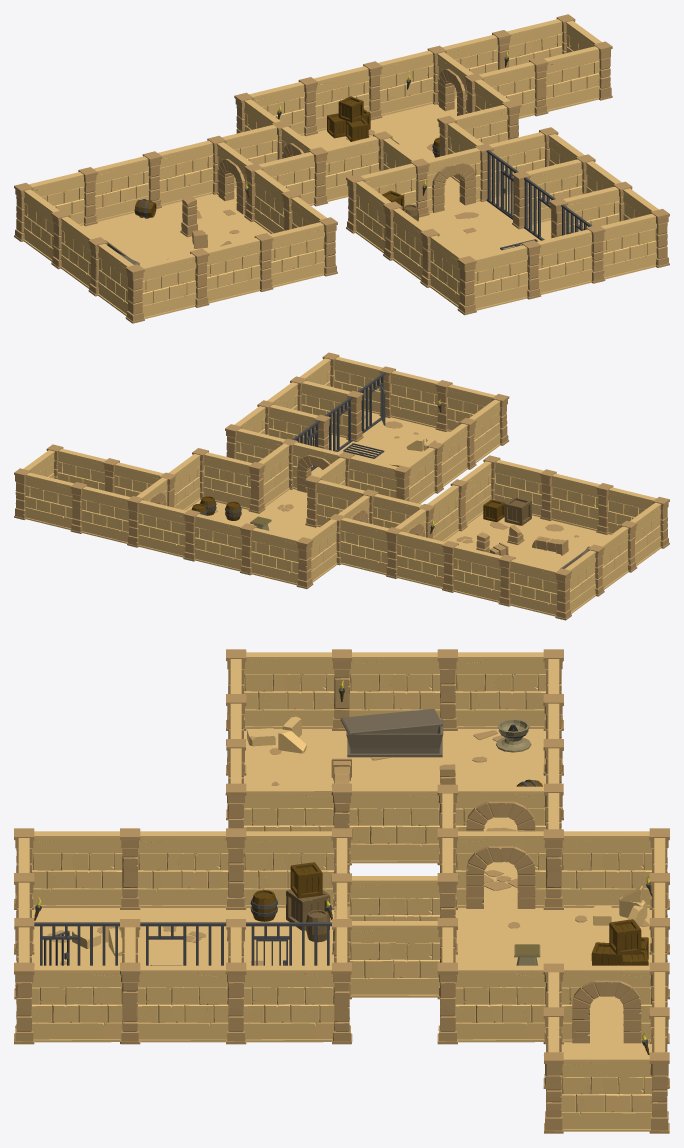
File: ModularDungeonSandBiome_ExampleScene.fbx
3 renders of one model, top to bottom at view 1: azimuth 30°, elevation 25°; view 2: azimuth 150°, elevation 25°; view 3: azimuth 270°, elevation 25°, orthographic. The views are drawn at different scales.
Parts seen in each view (by area): view 1: Pillar1Wall1.006, Pillar1Wall1.017, Pillar1Wall1.002, Pillar1Wall1.013, Pillar2Wall1.006, Pillar2Wall1.007, Pillar2Wall1.001, Pillar1Wall1.014, Pillar2Wall1.008, Pillar2Wall1.005, Pillar2Door.001, Pillar1Wall1.010 (+47 smaller); view 2: Pillar3Wall1.001, Pillar1Wall1.019, Pillar2Wall1.008, Pillar1Wall1.013, Pillar1Wall1.011, Pillar2Wall1.002, Pillar2Wall1.005, Pillar1Wall1.014, Pillar1Wall1.012, Pillar3Wall1.006, Pillar1Wall1.002, Pillar2Wall1.007 (+46 smaller); view 3: Pillar1Wall1.007, Pillar3Wall1.002, Pillar1Wall1.003, Pillar1Wall1.020, Pillar1Wall1.004, Pillar3Wall1.003, Pillar3Wall1.009, Pillar3Wall1.008, Pillar1Wall1.016, Wall1.001, Pillar1Wall1.008, Pillar1Wall1.015 (+55 smaller).
Boxes of the visible parts, x1,y1,x2,y2 form: Pillar1Wall1.006: (457, 245, 528, 315); Pillar1Wall1.017: (125, 253, 196, 323); Pillar1Wall1.002: (522, 229, 592, 299); Pillar1Wall1.013: (190, 238, 260, 307); Pillar2Wall1.006: (544, 41, 612, 111); Pillar2Wall1.007: (254, 222, 325, 291); Pillar2Wall1.001: (586, 214, 657, 283); Pillar1Wall1.014: (93, 151, 161, 221); Pillar2Wall1.008: (158, 135, 226, 205); Pillar2Wall1.005: (378, 45, 446, 115); Pillar2Door.001: (425, 143, 493, 213); Pillar1Wall1.010: (309, 136, 379, 206); Pillar3Wall1.001: (203, 452, 265, 513); Pillar1Wall1.019: (498, 554, 558, 616); Pillar2Wall1.008: (385, 527, 445, 588); Pillar1Wall1.013: (551, 473, 613, 534); Pillar1Wall1.011: (183, 509, 243, 571); Pillar2Wall1.002: (14, 468, 73, 529); Pillar2Wall1.005: (127, 496, 186, 557); Pillar1Wall1.014: (442, 541, 502, 602); Pillar1Wall1.012: (240, 523, 299, 585); Pillar3Wall1.006: (70, 482, 130, 543); Pillar1Wall1.002: (390, 370, 452, 431); Pillar2Wall1.007: (494, 459, 556, 520); Pillar1Wall1.007: (14, 962, 122, 1044); Pillar3Wall1.002: (120, 962, 228, 1044); Pillar1Wall1.003: (225, 962, 334, 1044); Pillar1Wall1.020: (437, 962, 545, 1044); Pillar1Wall1.004: (138, 828, 246, 909); Pillar3Wall1.003: (32, 828, 140, 909); Pillar3Wall1.009: (243, 649, 351, 730); Pillar3Wall1.008: (331, 783, 439, 865); Pillar1Wall1.016: (455, 649, 563, 730); Wall1.001: (561, 1055, 651, 1131); Pillar1Wall1.008: (561, 828, 669, 909); Pillar1Wall1.015: (349, 649, 457, 730).
Bounding box in the file's own units: 3677 × 315 × 2478.
